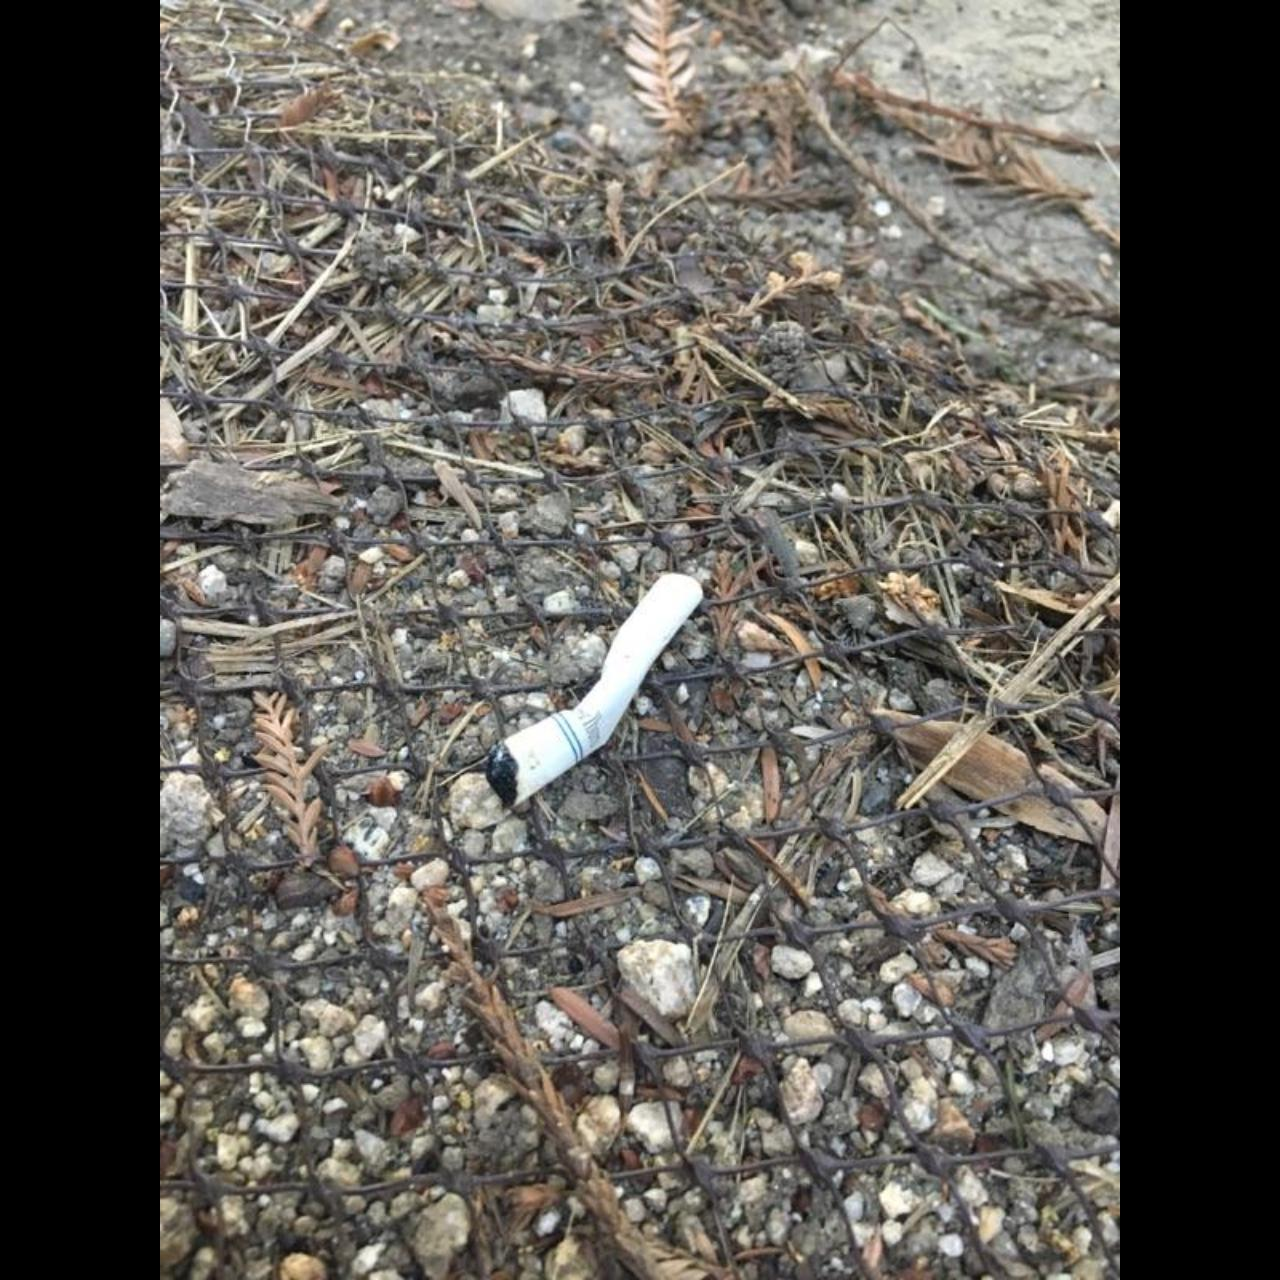cigarettes_butts: (485, 574, 702, 810)
